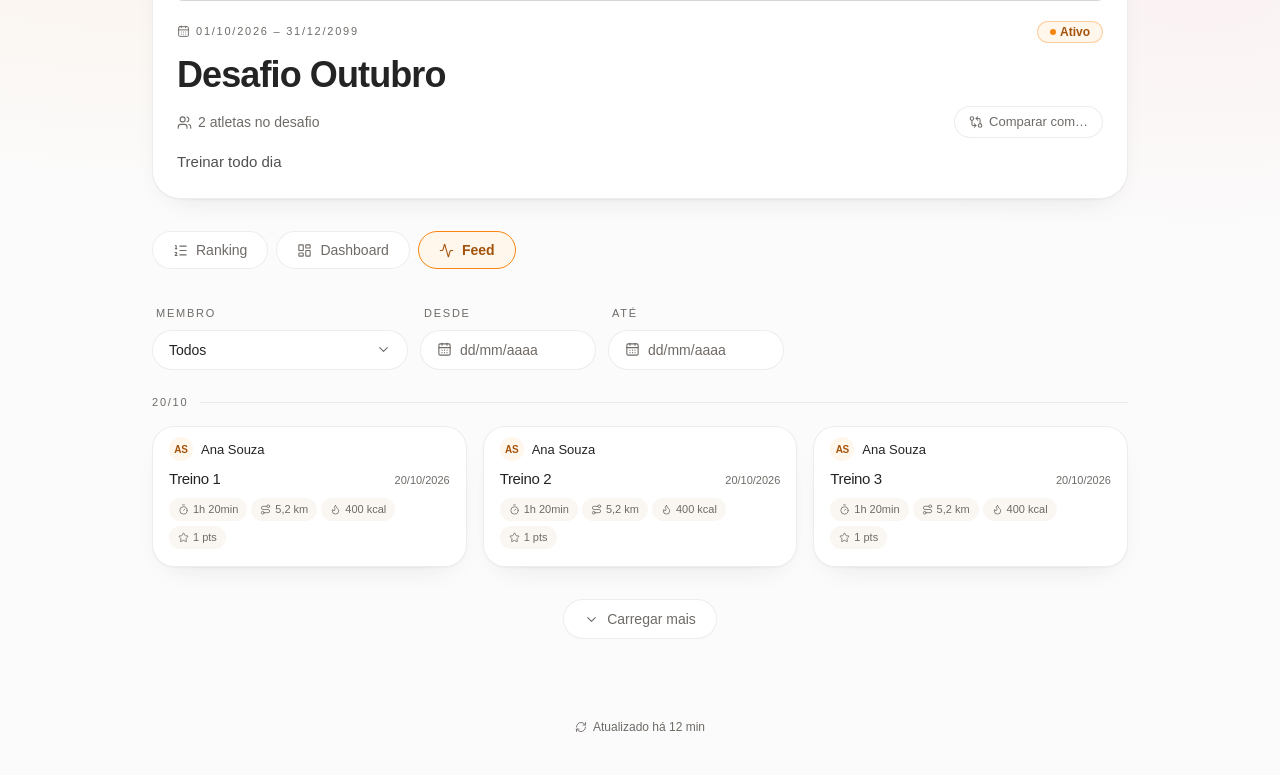
Test: FeedTab › dedupes workouts repeated across pages
(page scrolled)
Step 1. Click the button "Carregar mais" → x=640, y=619, box [563, 599, 717, 639]
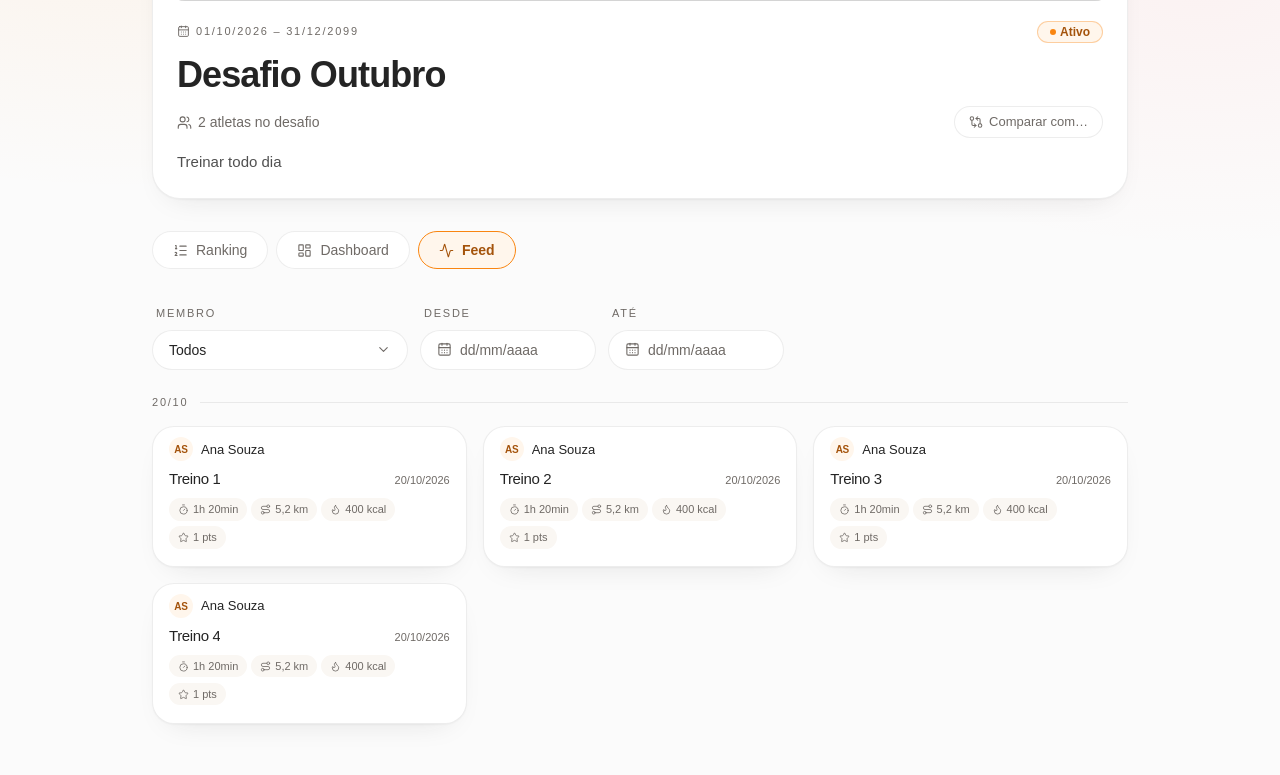
Expected: the heading "Treino 4" is shown, [169, 626, 220, 647]
